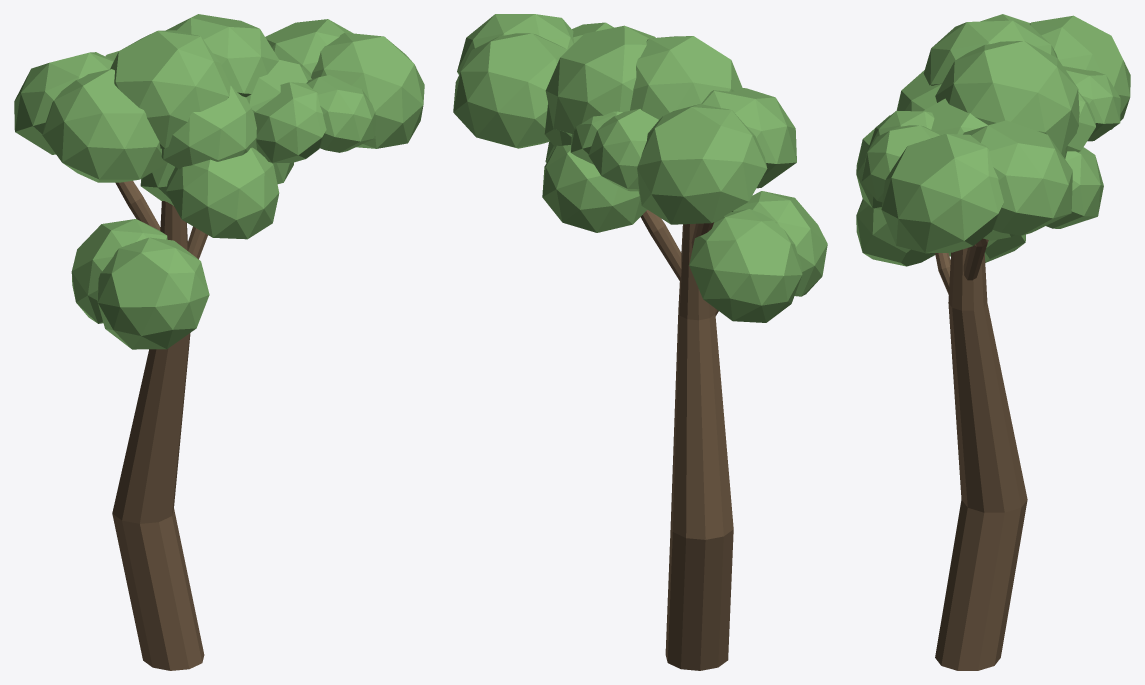
File: Tree_Bubble.fbx
3 views of the same model, side by side, from view 1: azimuth 30°, elevation 25°; view 2: azimuth 150°, elevation 25°; view 3: azimuth 270°, elevation 25° (orthographic). The views are drawn at different scales.
Visible parts, largest first — view 1: polySurface38; view 2: polySurface38; view 3: polySurface38.
Boxes of the visible parts, <box> form: polySurface38: <box>14,14,424,670</box>; polySurface38: <box>453,14,827,670</box>; polySurface38: <box>856,14,1130,670</box>.
Size of the model in its own units: 120 by 206 by 79.87.
